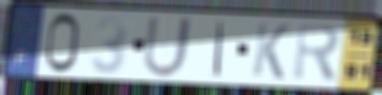0: (43, 11, 82, 74)
3: (90, 13, 131, 76)
I: (211, 19, 227, 79)
K: (249, 20, 292, 82)
R: (291, 21, 344, 85)
U: (141, 14, 196, 80)
